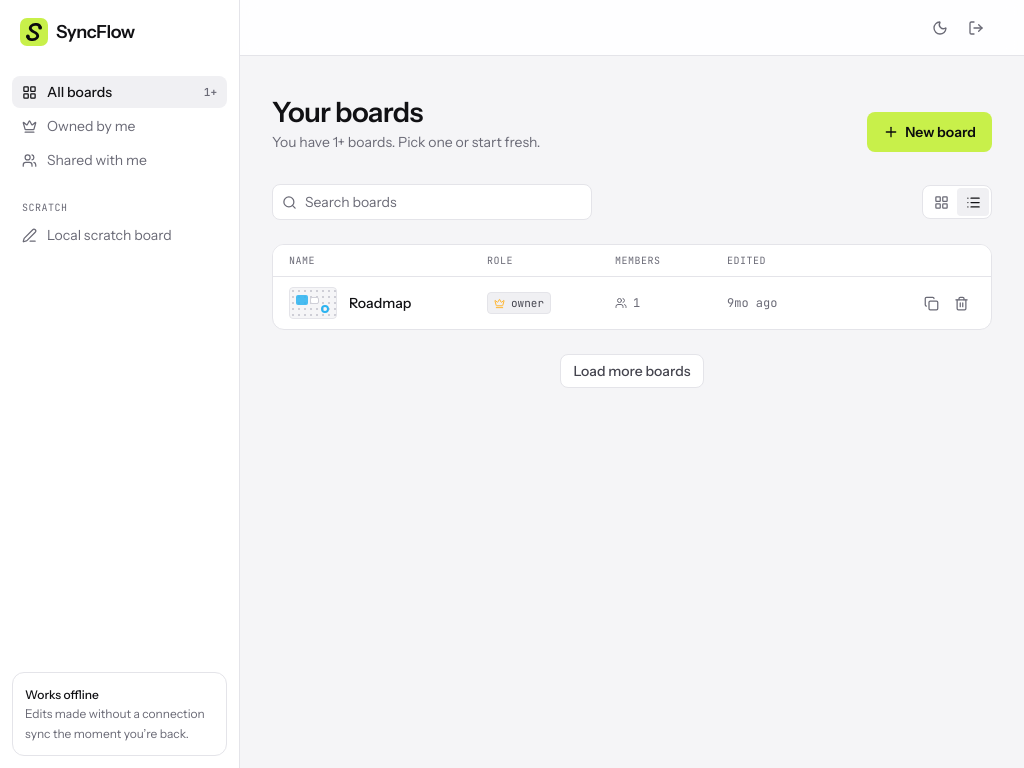
Scenario: DashboardPage › loads more boards on demand and keeps the pages together
expect the text "Roadmap" is shown: met, box [349,293,411,313]
What coordinates should you click on to do the following:
click the button "Load more boards"
I would click on:
 (632, 371)
Its box is [560,354,704,388].
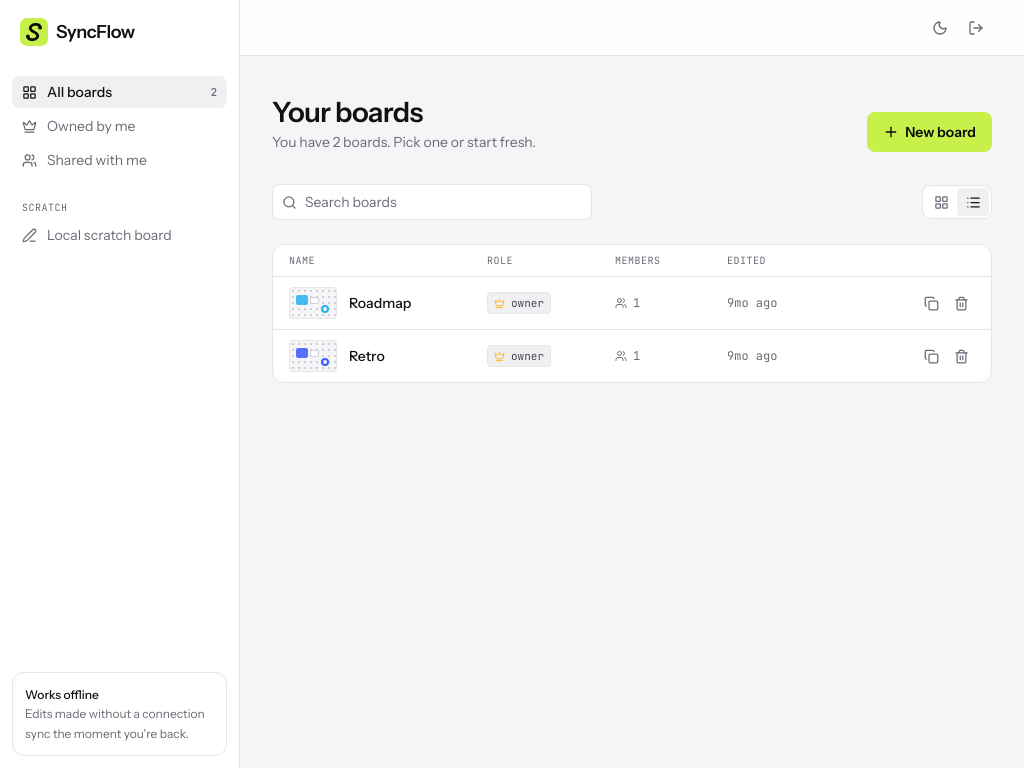
expect the text "Roadmap" is shown: met, box [349,293,411,313]
expect the text "Retro" is shown: met, box [349,346,385,366]
expect the button "Load more boards" is gone: met
